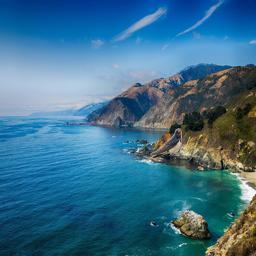Swallow: (142, 128, 182, 162)
